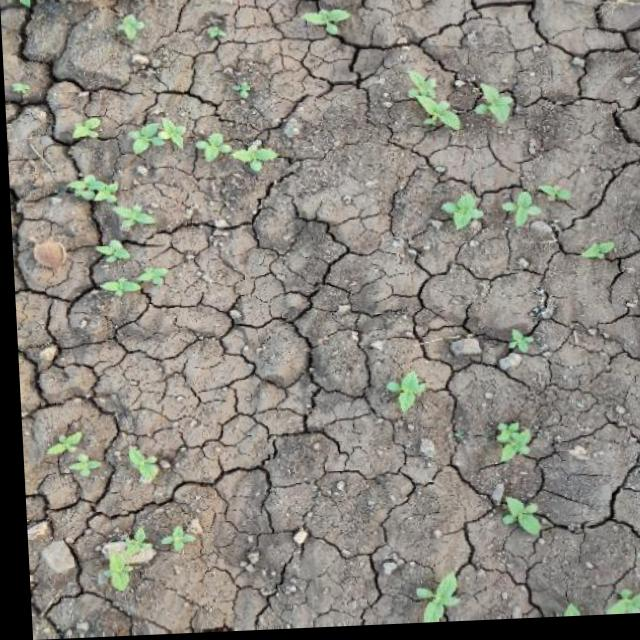crop: (65, 182, 171, 308), (124, 109, 278, 183), (396, 63, 529, 137), (429, 173, 568, 241), (41, 430, 168, 494), (399, 581, 466, 627), (484, 417, 530, 468), (293, 9, 356, 45), (381, 376, 430, 416)
